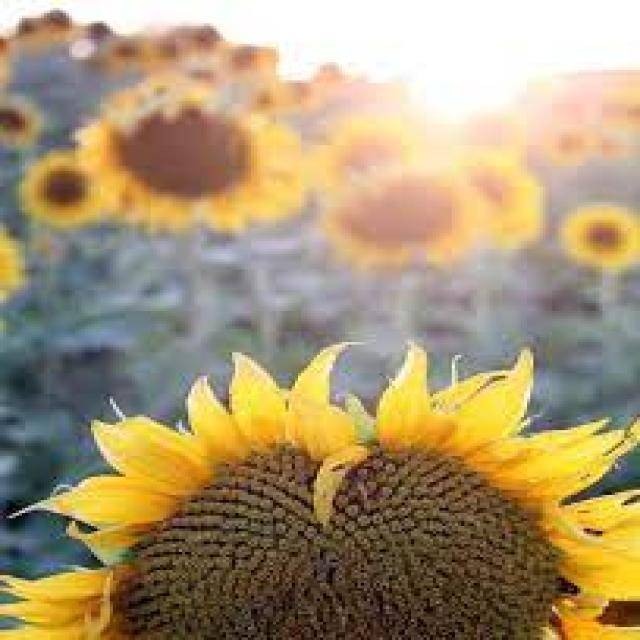sunflower: (0, 340, 637, 638), (73, 90, 300, 236), (322, 162, 486, 270), (456, 156, 543, 249), (20, 148, 104, 228), (560, 208, 637, 268), (321, 122, 403, 173), (0, 101, 41, 148), (0, 233, 25, 303), (226, 45, 278, 77), (108, 36, 158, 66), (279, 80, 321, 114), (246, 89, 288, 119)
